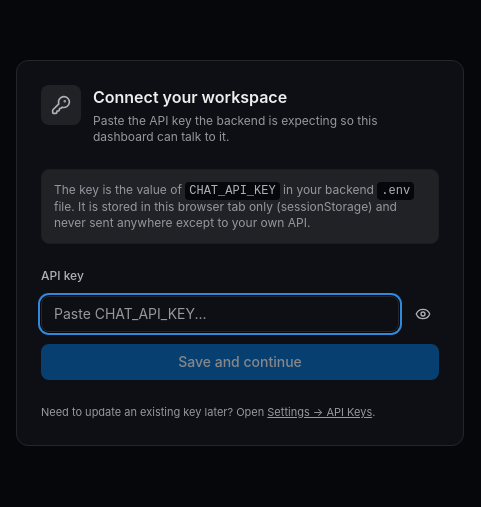
it: SetupPage › surfaces the HTTP status and message and does not save on 401
This screenshot has width=481, height=507.
Type "sk-bad-key" into the password field labelled "API key" at (220, 314), box 41,296 -> 399,332
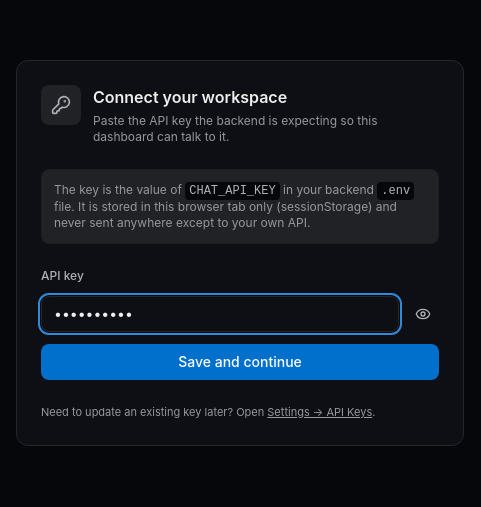
Click the button "Save and continue" at (240, 362), box 41,344 -> 439,380
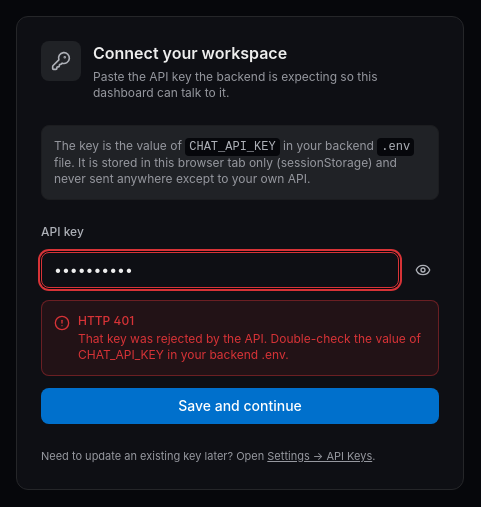
Check: the message shows "HTTP 401", box 41,300 -> 439,376
Check: the message shows "CHAT_API_KEY", box 78,331 -> 421,362
